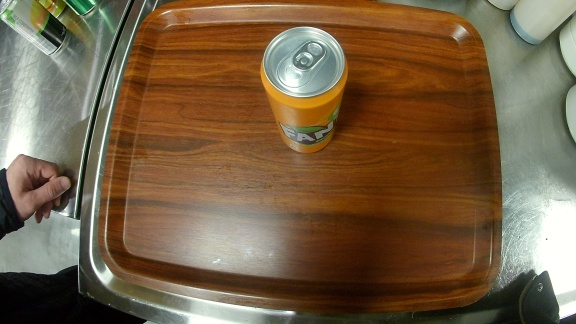kutufanta: (259, 21, 351, 159)
